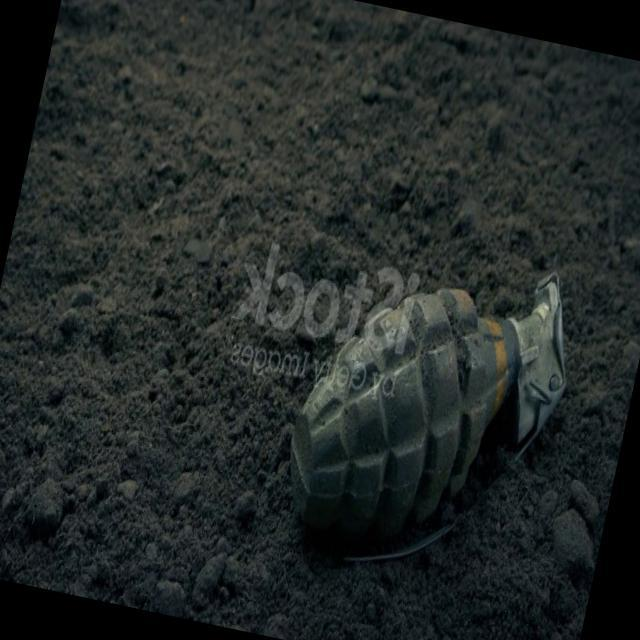grenade: (262, 227, 590, 600)
